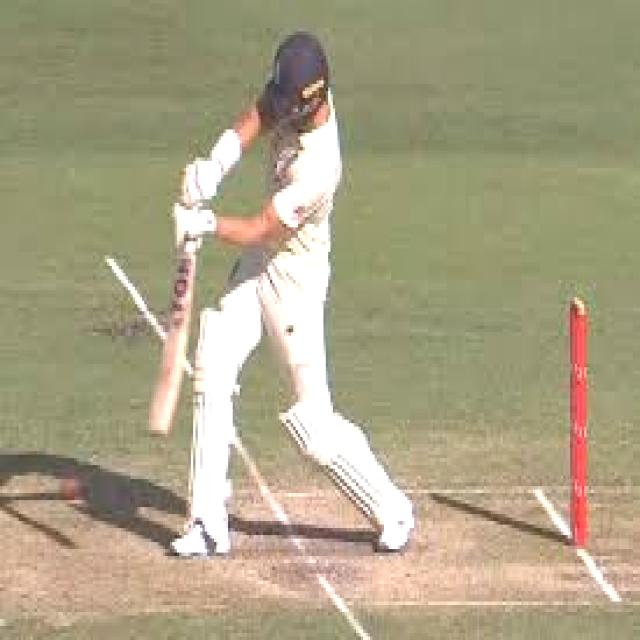toe: (143, 392, 177, 441)
